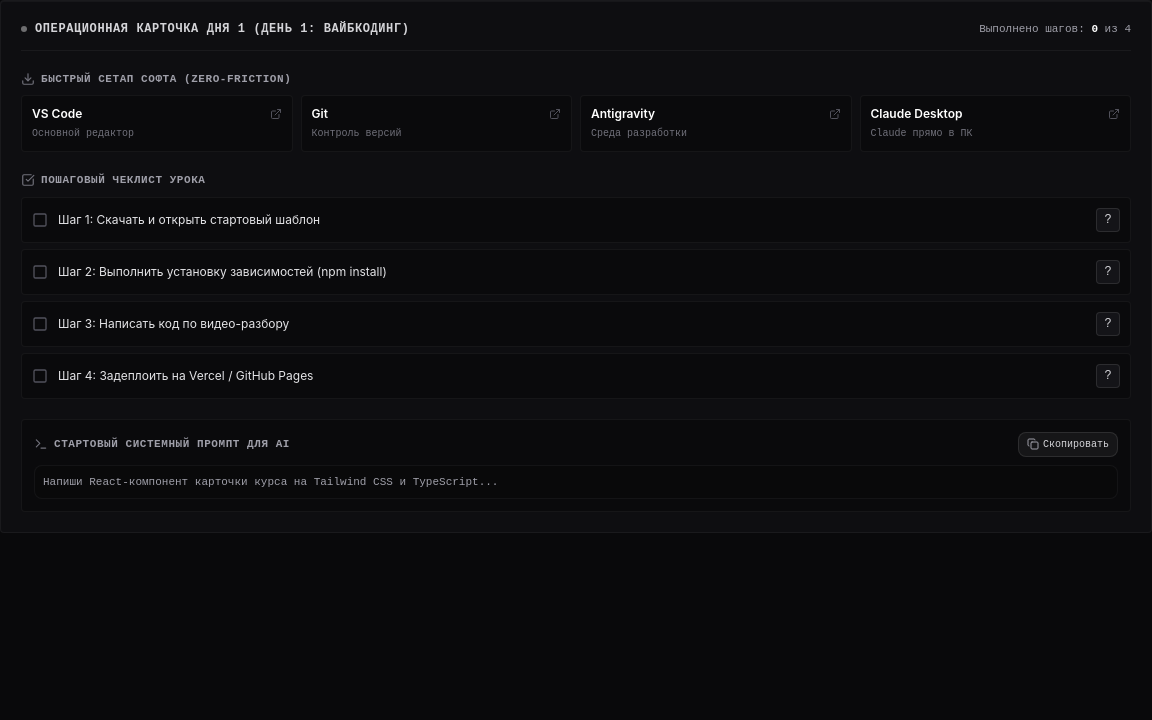
Scenario: LessonActionCard Component › toggles checklist steps and updates completed counter
The image size is (1152, 720).
Expected: the text "Выполнено шагов: 0 из 4" is shown, [979,21,1131,38]
Expected: the text "0" is shown, [1091,23,1098,35]
Click the button "Шаг 1: Скачать и открыть стартовый шаблон": (189,219) [32,212,1084,228]
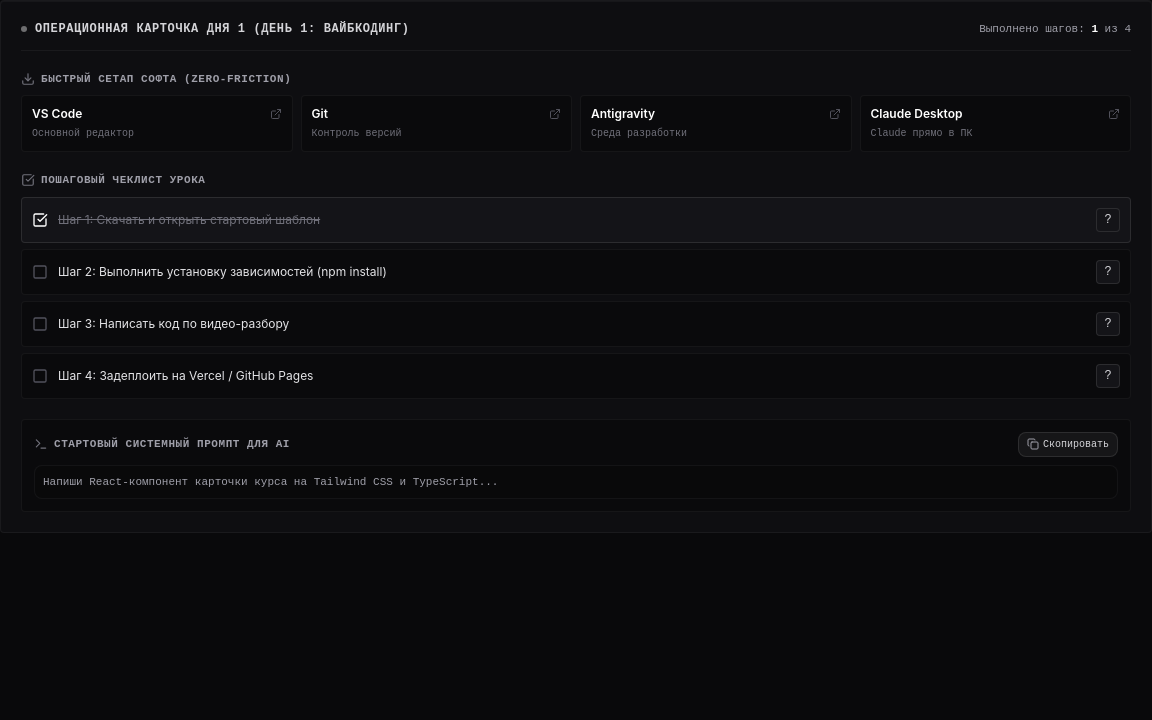
Expected: the text "1" is shown, [1091,23,1098,35]
